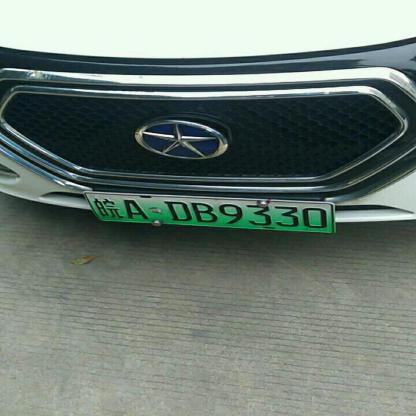lp: (85, 192, 332, 232)
